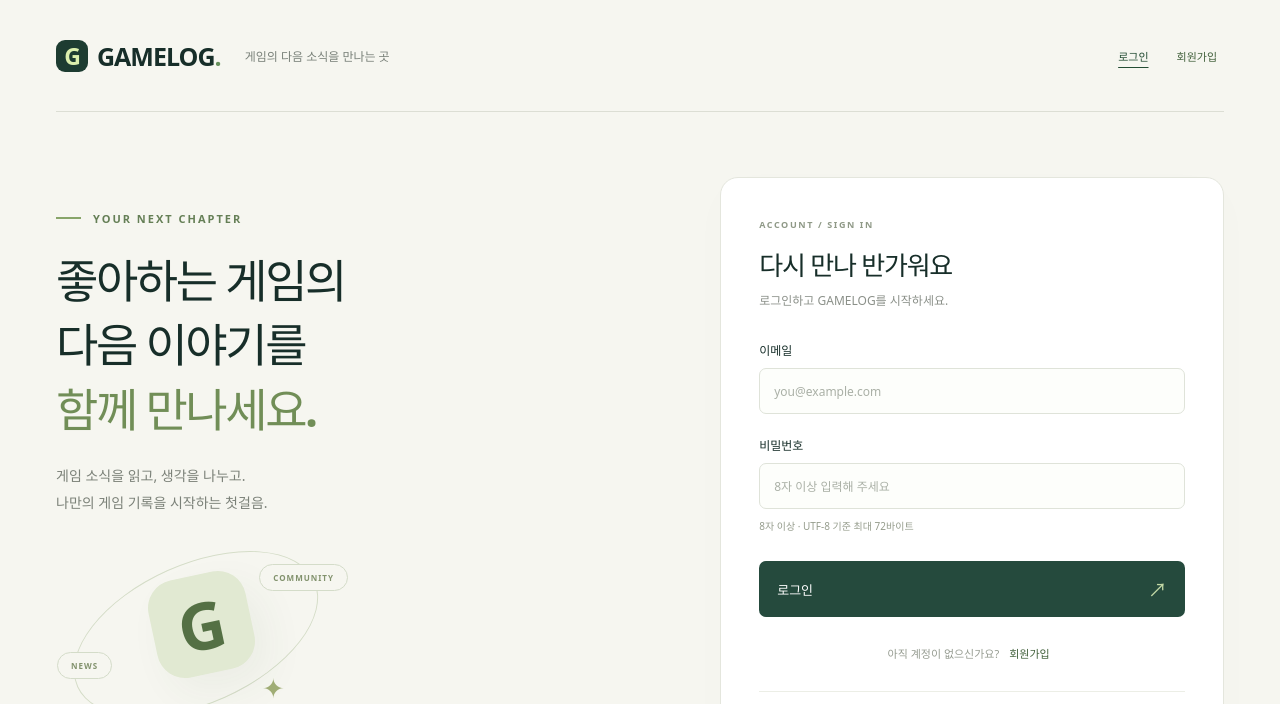
Test case: authentication user flows › signs up then asks the user to log in
Step 1. Click the button "회원가입" → click(1029, 653), box left=1002, top=641, right=1057, bottom=665
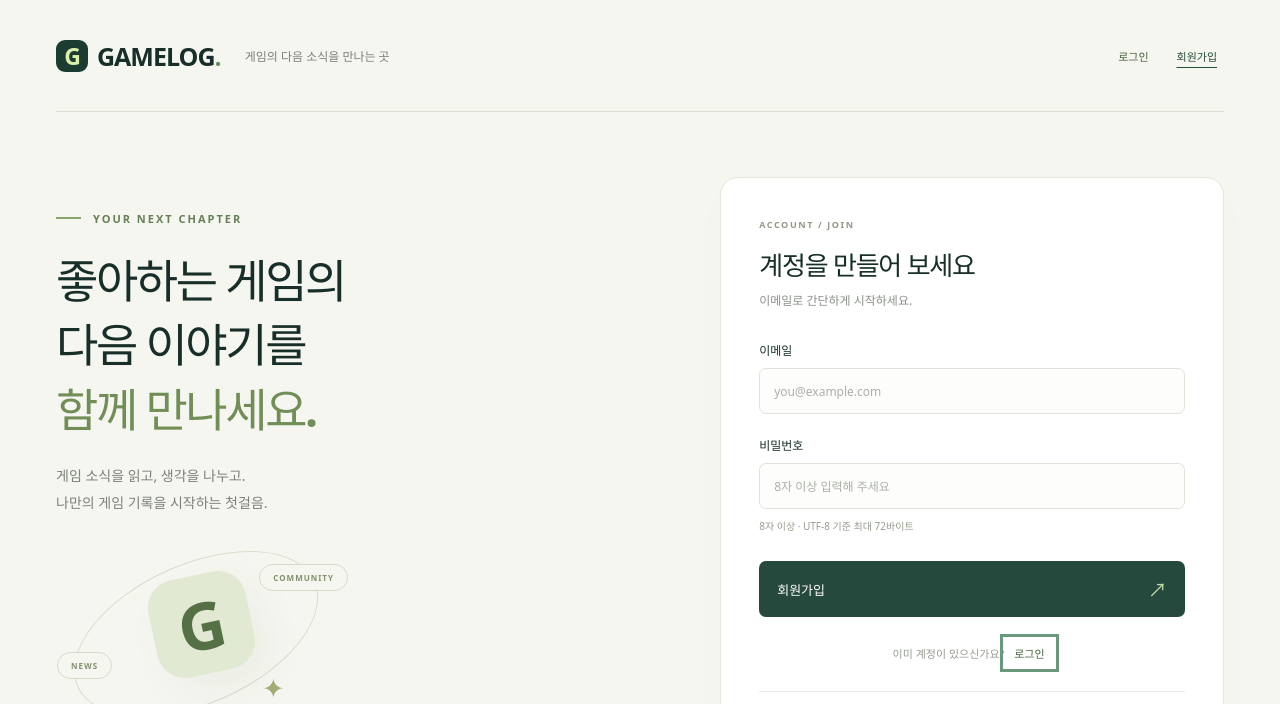
Step 2. Type "member@example.com" into the field labelled "이메일" → (972, 391), box left=759, top=368, right=1185, bottom=414
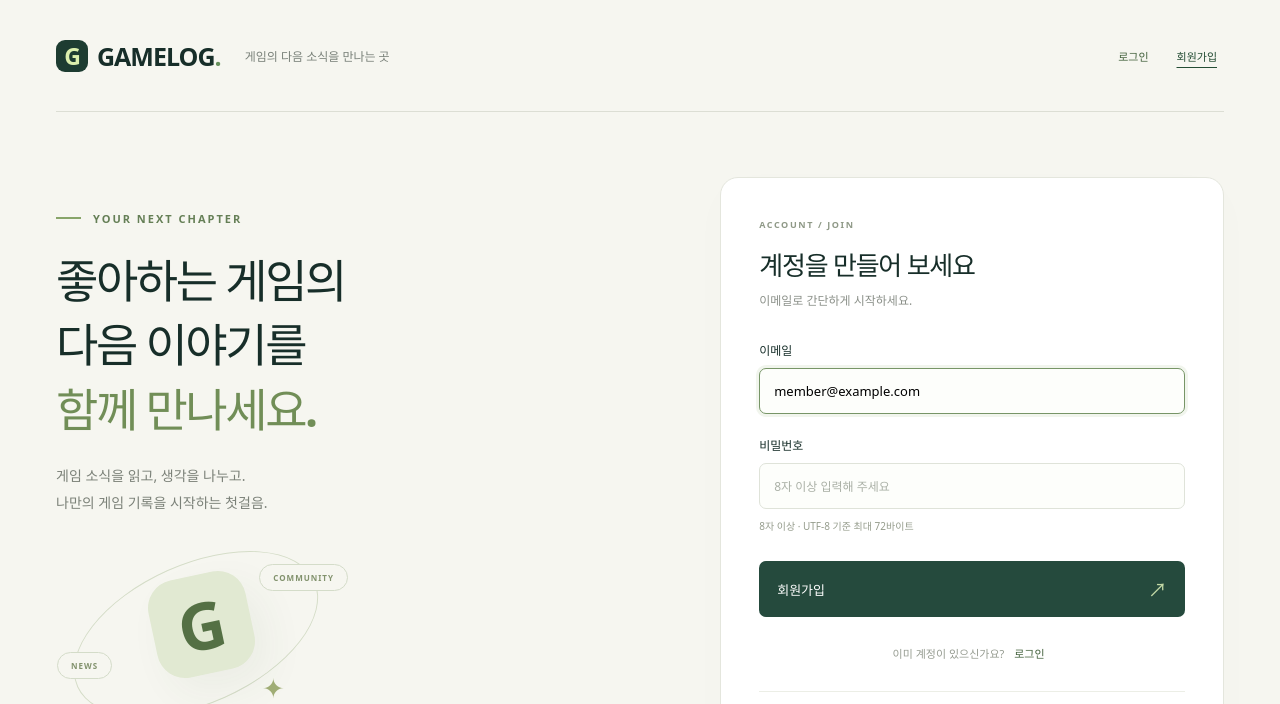
Step 3. Type "valid-password" into the password field labelled "비밀번호" → (972, 486), box left=759, top=463, right=1185, bottom=509
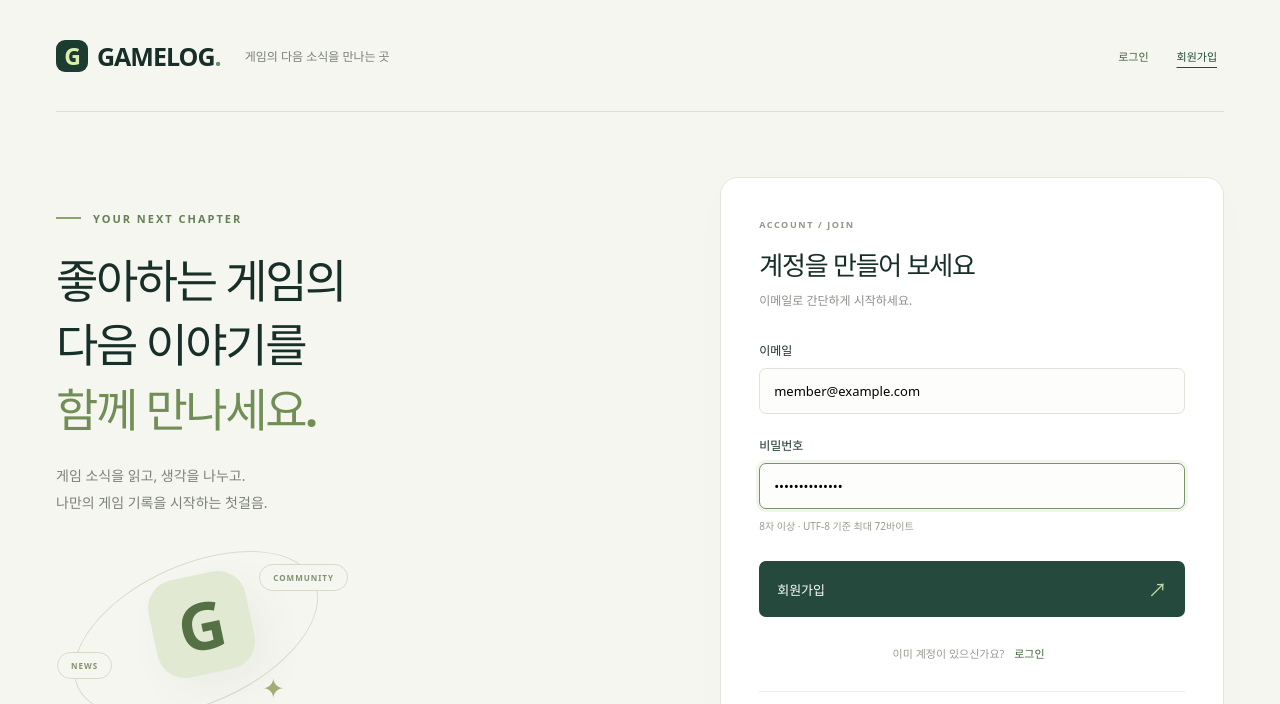
Step 4. Click the button "회원가입 ↗" → click(801, 590), box left=759, top=561, right=1185, bottom=617
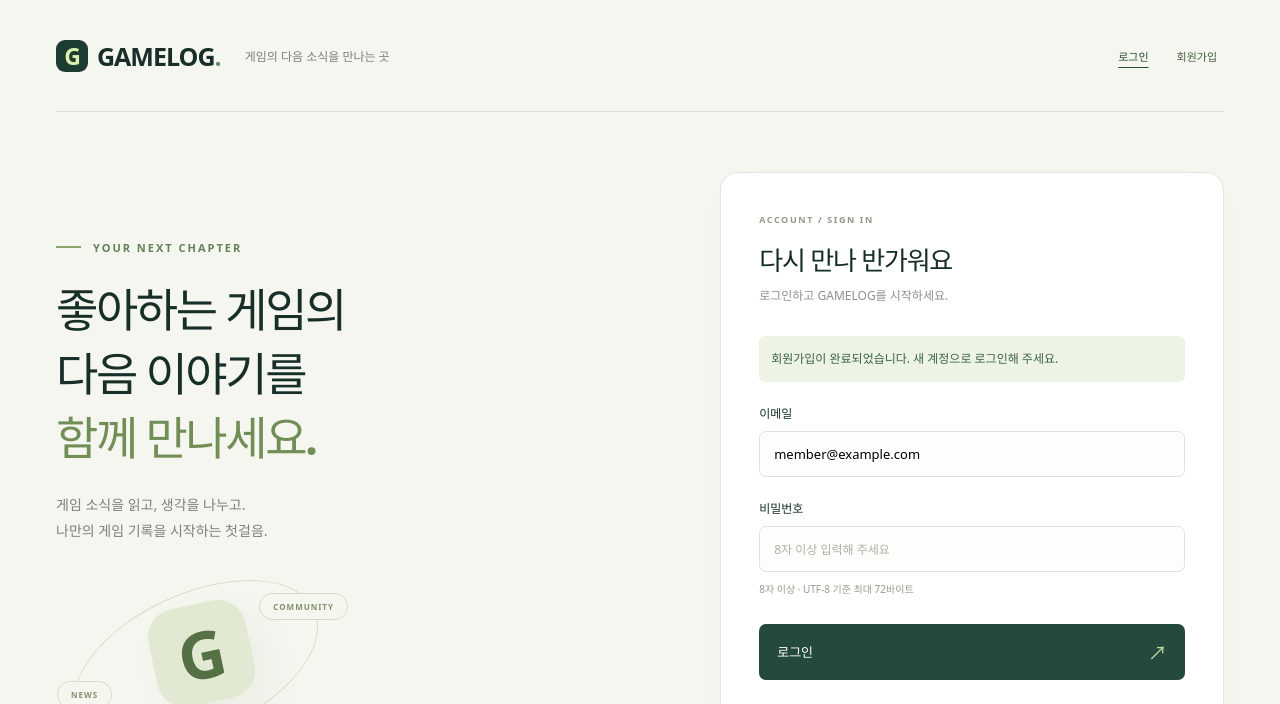
Result: the message shows "회원가입이 완료되었습니다" at left=771, top=350, right=1058, bottom=367
Result: the password field labelled "비밀번호" is empty at left=759, top=526, right=1185, bottom=572
